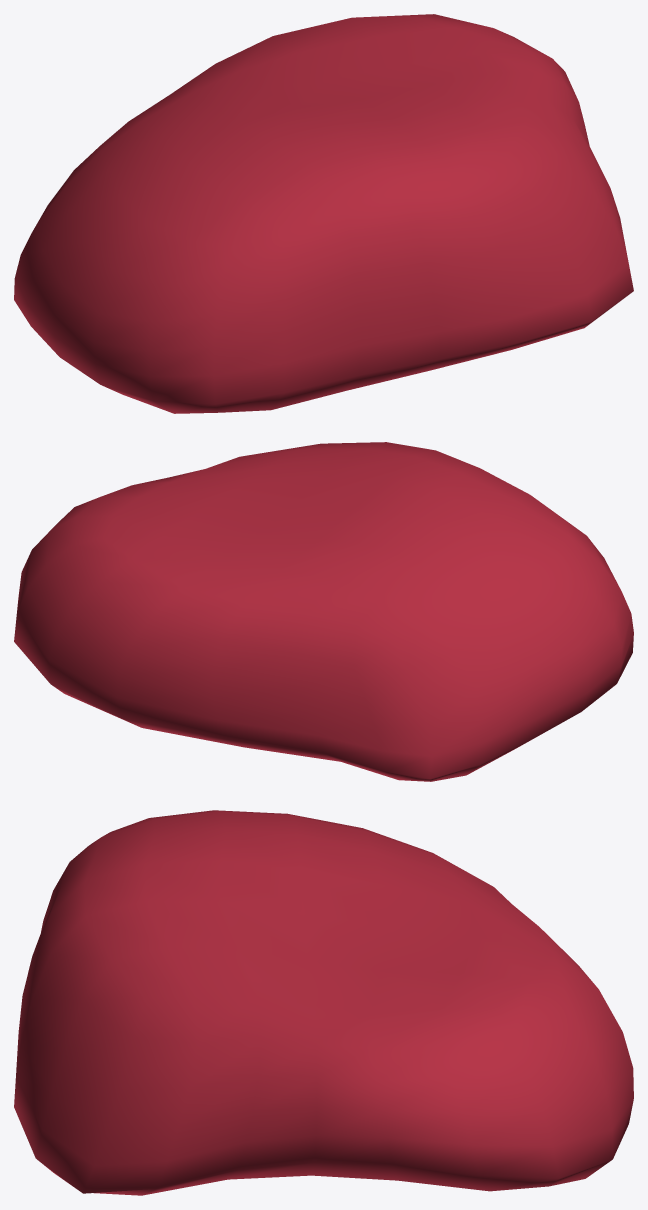
File: blarfBeef_Obj.fbx
3 views of the same model, one above another, from view 1: azimuth 30°, elevation 25°; view 2: azimuth 150°, elevation 25°; view 3: azimuth 270°, elevation 25° (orthographic). The views are drawn at different scales.
Visible parts, largest first — view 1: blarfBeef; view 2: blarfBeef; view 3: blarfBeef.
Part boxes in pixels (x1,y1,x2,y2): blarfBeef: (14, 14, 633, 413); blarfBeef: (14, 442, 633, 781); blarfBeef: (14, 810, 633, 1195).
Bounding box in the file's own units: 67.03 × 24.36 × 56.6.
